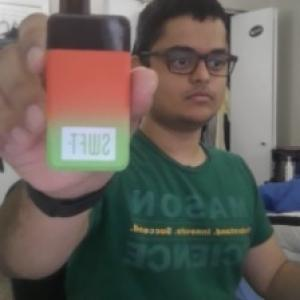Swift-E-Ciggirate: (43, 1, 139, 175)
